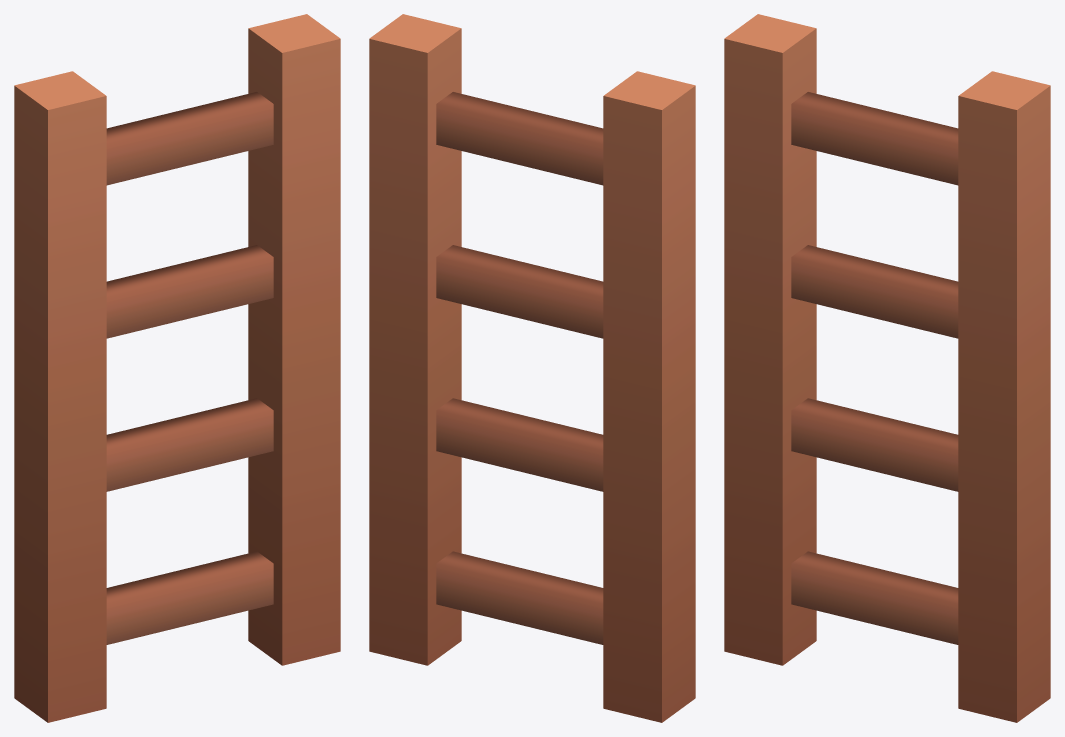
The model's file is kenney-platformer-ladder.glb.
3 views of the same model, side by side, from view 1: azimuth 30°, elevation 25°; view 2: azimuth 150°, elevation 25°; view 3: azimuth 330°, elevation 25° (orthographic).
Visible parts, largest first — view 1: ladder; view 2: ladder; view 3: ladder.
Boxes of the visible parts, x1,y1,x2,y2 form: ladder: [14, 14, 340, 722]; ladder: [369, 14, 695, 722]; ladder: [724, 14, 1050, 722].
Bounding box in the file's own units: 0.5001 × 1 × 0.1.
Materials: 1 (1 with a texture image).
